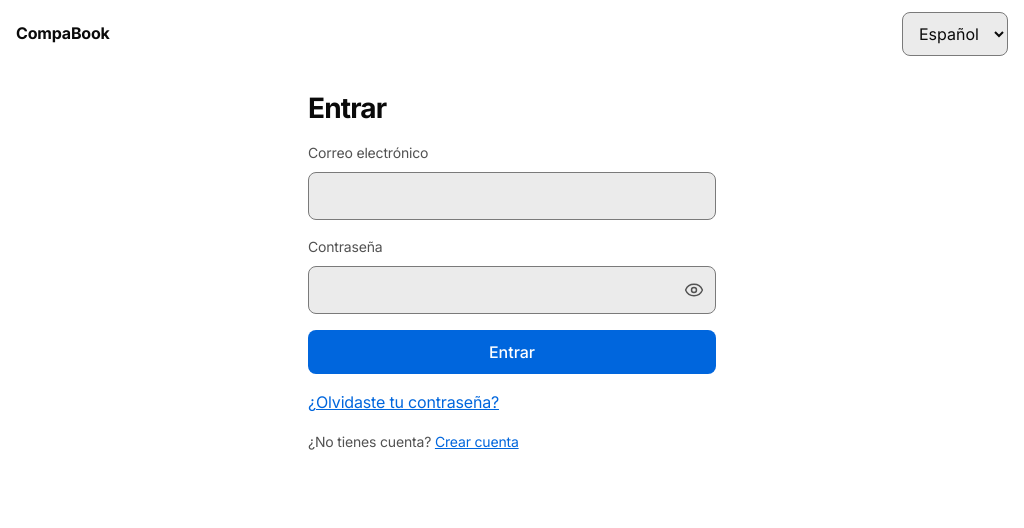
Test case: login › no manda nada si faltan datos y marca los campos
The width and height of the screenshot is (1024, 528).
Click the button "Entrar": {"x": 512, "y": 352} [308,330,716,374]
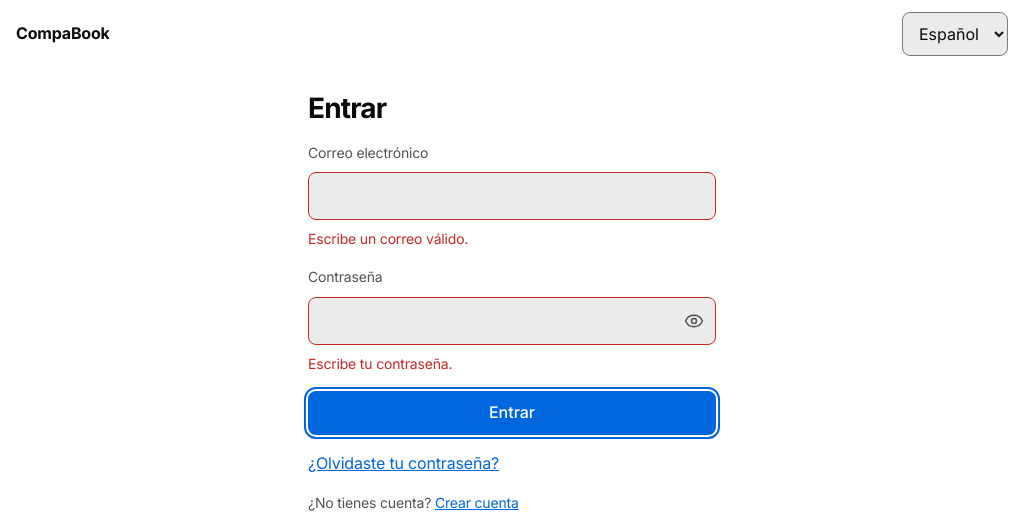
Expected: the text "Escribe un correo válido." is shown, [308,230,468,247]
Expected: the text "Escribe tu contraseña." is shown, [308,355,452,372]
